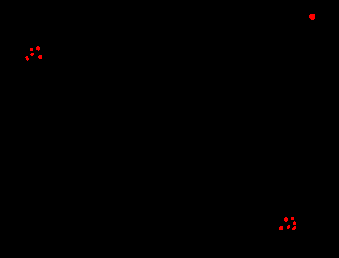Target: (309, 14, 315, 20), (36, 46, 40, 51), (25, 56, 29, 61), (284, 217, 288, 222), (38, 55, 42, 59), (279, 226, 283, 230), (292, 226, 296, 230), (30, 53, 34, 56), (293, 221, 296, 225), (287, 225, 290, 229), (30, 48, 33, 51), (291, 217, 294, 220)
